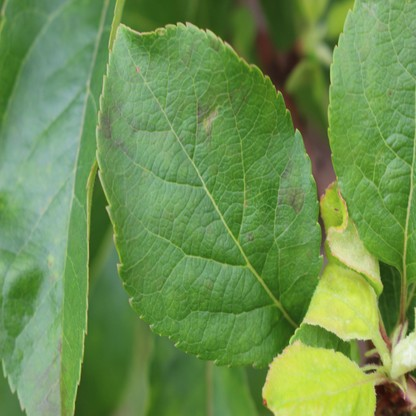scab: (26, 339, 62, 416), (100, 99, 134, 153), (277, 161, 305, 213), (195, 102, 217, 142), (247, 230, 254, 241)
